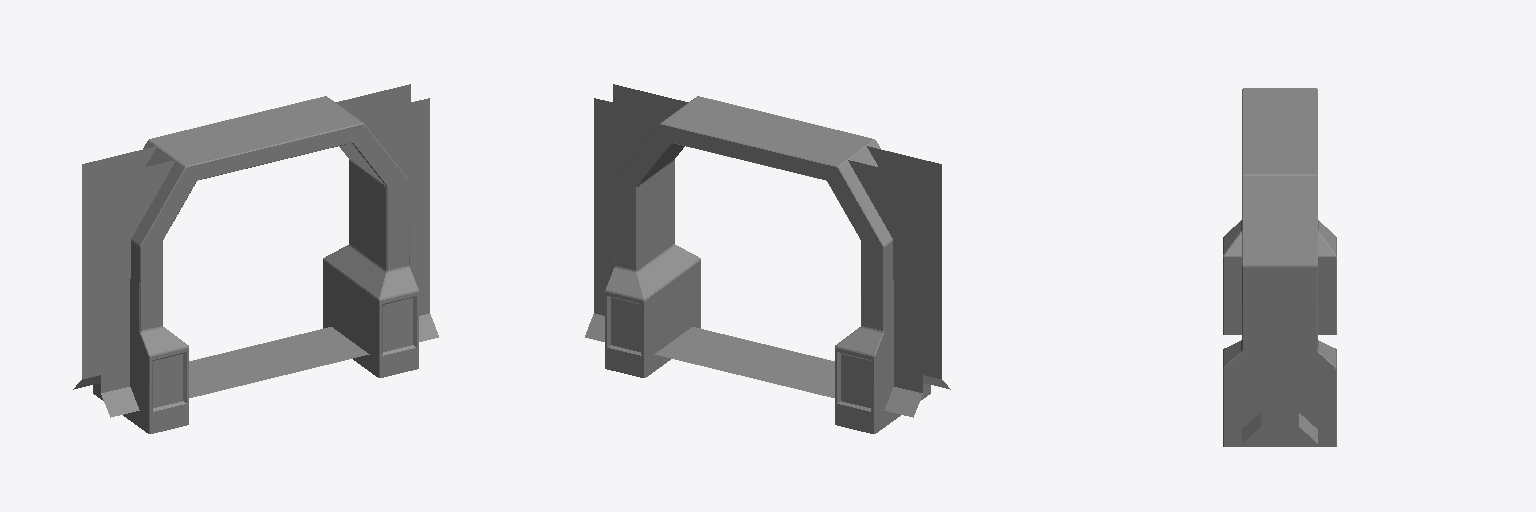
Rendered from DoorWay.obj.
The picture shows the model from 3 angles: view 1: azimuth 30°, elevation 25°; view 2: azimuth 150°, elevation 25°; view 3: azimuth 270°, elevation 25°; orthographic projection.
Parts seen in each view (by area): view 1: SM_DoorWay_Standard_E; view 2: SM_DoorWay_Standard_E; view 3: SM_DoorWay_Standard_E.
Part boxes in pixels (bbox=[...]): SM_DoorWay_Standard_E: bbox=[73, 84, 438, 433]; SM_DoorWay_Standard_E: bbox=[585, 84, 950, 433]; SM_DoorWay_Standard_E: bbox=[1223, 88, 1336, 446].
Bounding box in the file's own units: 157 × 114 × 47.24.